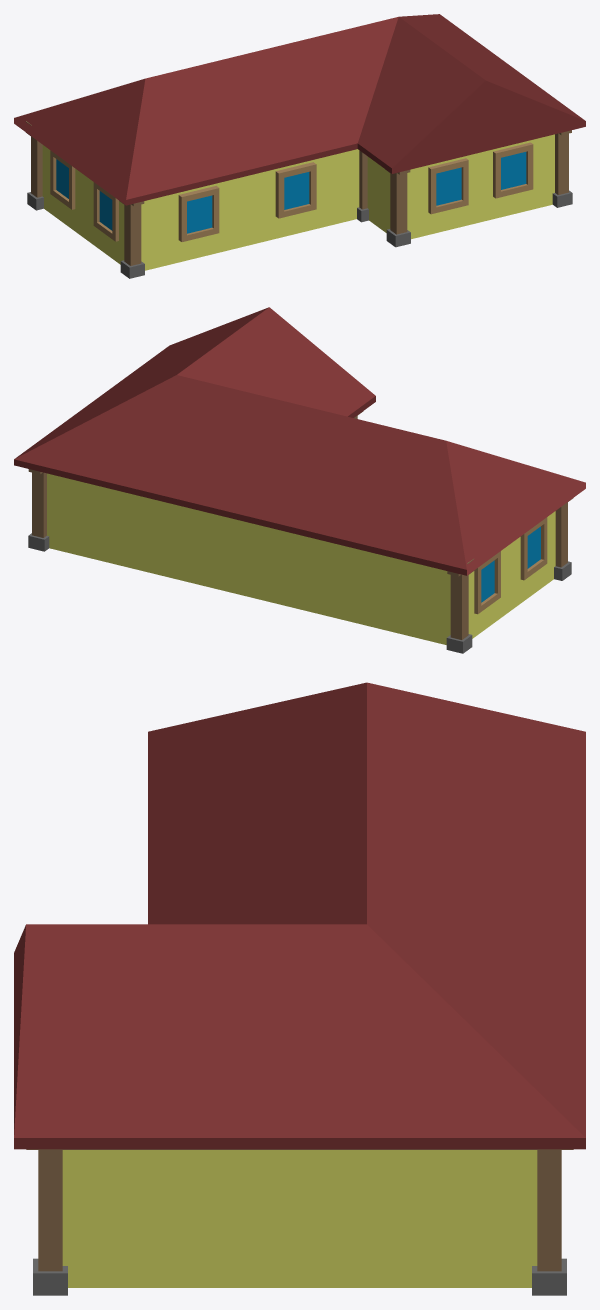
The model's file is testHouse_v1.fbx.
3 views of the same model, one above another, from view 1: azimuth 30°, elevation 25°; view 2: azimuth 150°, elevation 25°; view 3: azimuth 270°, elevation 25° (orthographic). The views are drawn at different scales.
Parts seen in each view (by area): view 1: polySurface2, polySurface1, pCube25, pCube24, pCube26, pCube27, pCube28, pCube29, pCube7, pCube11, pCube8, pCube10 (+1 smaller); view 2: polySurface2, polySurface1, pCube28, pCube29, pCube10, pCube9, pCube11; view 3: polySurface2, polySurface1, pCube8, pCube9, pCube2, pCube3.
Part boxes in pixels (bbox=[...]): polySurface2: bbox=[14, 14, 585, 205]; polySurface1: bbox=[42, 134, 554, 270]; pCube25: bbox=[275, 162, 316, 218]; pCube24: bbox=[178, 185, 219, 241]; pCube26: bbox=[428, 158, 468, 214]; pCube27: bbox=[493, 142, 533, 198]; pCube28: bbox=[93, 182, 118, 241]; pCube29: bbox=[50, 150, 75, 209]; pCube7: bbox=[390, 173, 407, 234]; pCube11: bbox=[124, 204, 141, 265]; pCube8: bbox=[555, 133, 568, 194]; pCube10: bbox=[31, 136, 42, 197]; polySurface2: bbox=[14, 307, 585, 575]; polySurface1: bbox=[47, 473, 555, 644]; pCube28: bbox=[520, 517, 547, 580]; pCube29: bbox=[474, 551, 500, 614]; pCube10: bbox=[450, 574, 468, 639]; pCube9: bbox=[32, 472, 46, 537]; pCube11: bbox=[555, 502, 567, 567]; polySurface2: bbox=[14, 682, 585, 1149]; polySurface1: bbox=[62, 1150, 537, 1287]; pCube8: bbox=[38, 1155, 62, 1271]; pCube9: bbox=[537, 1155, 561, 1271]; pCube2: bbox=[33, 1258, 67, 1295]; pCube3: bbox=[532, 1258, 566, 1295].
Size of the model in its own units: 39.5 by 13 by 23.5.
